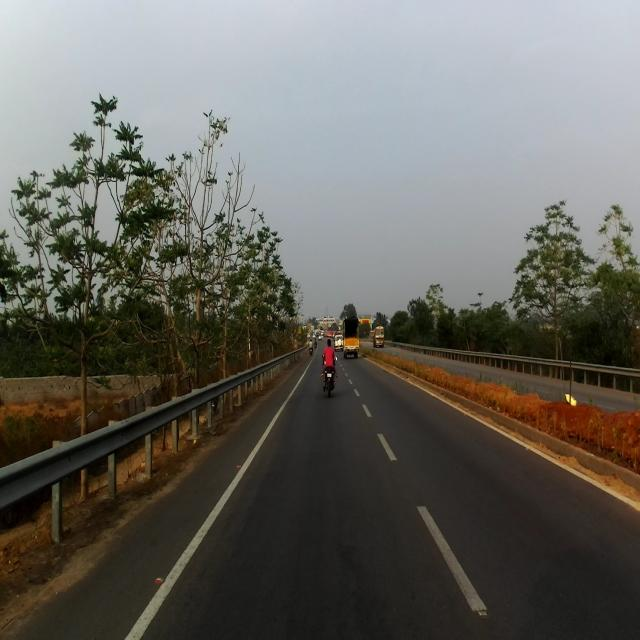motorcycle: (322, 354, 338, 398)
truck: (342, 316, 359, 358)
